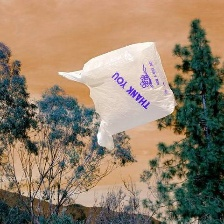plastic_bag: (55, 36, 181, 153)
